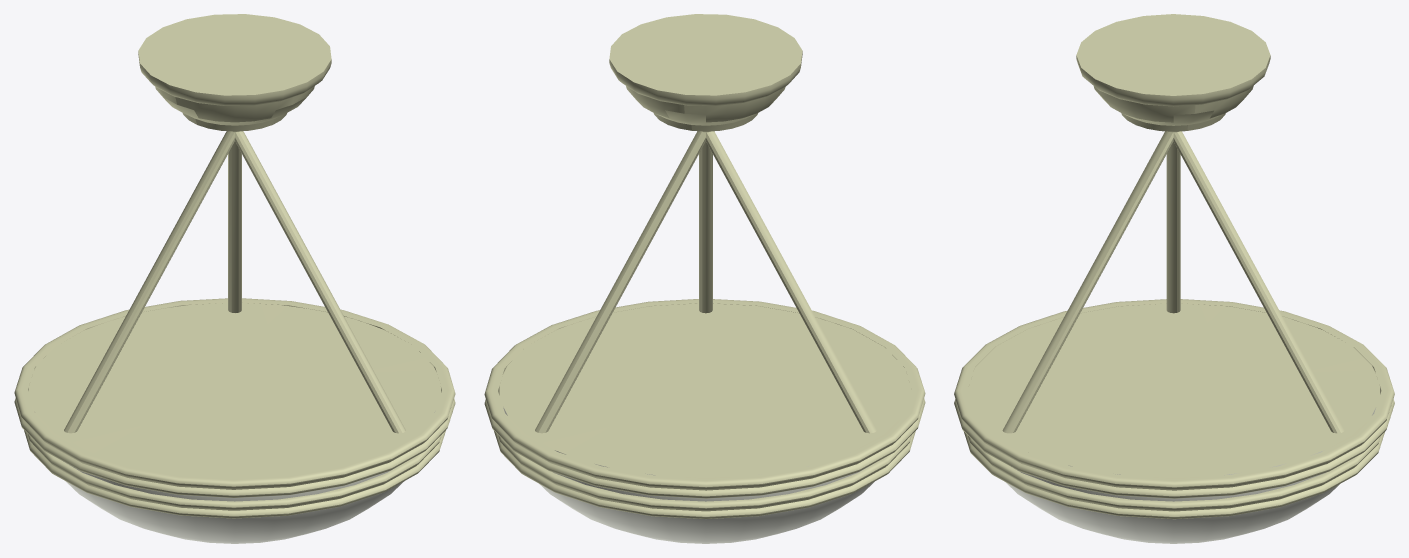
The model's file is sweethome3d-contributions-hanging-light-244.glb.
3 views of the same model, side by side, from view 1: azimuth 30°, elevation 25°; view 2: azimuth 150°, elevation 25°; view 3: azimuth 270°, elevation 25° (orthographic).
Visible parts, largest first — view 1: ltgold_2_2, ltglass_1_1; view 2: ltgold_2_2, ltglass_1_1; view 3: ltgold_2_2, ltglass_1_1.
Part boxes in pixels (left/top/right/bottom): ltgold_2_2: left=14, top=14, right=455, bottom=518; ltglass_1_1: left=63, top=411, right=435, bottom=543; ltgold_2_2: left=484, top=14, right=925, bottom=518; ltglass_1_1: left=503, top=407, right=874, bottom=543; ltgold_2_2: left=954, top=14, right=1394, bottom=519; ltglass_1_1: left=1005, top=408, right=1375, bottom=543.
Size of the model in its own units: 32.32 by 37.18 by 32.32.
